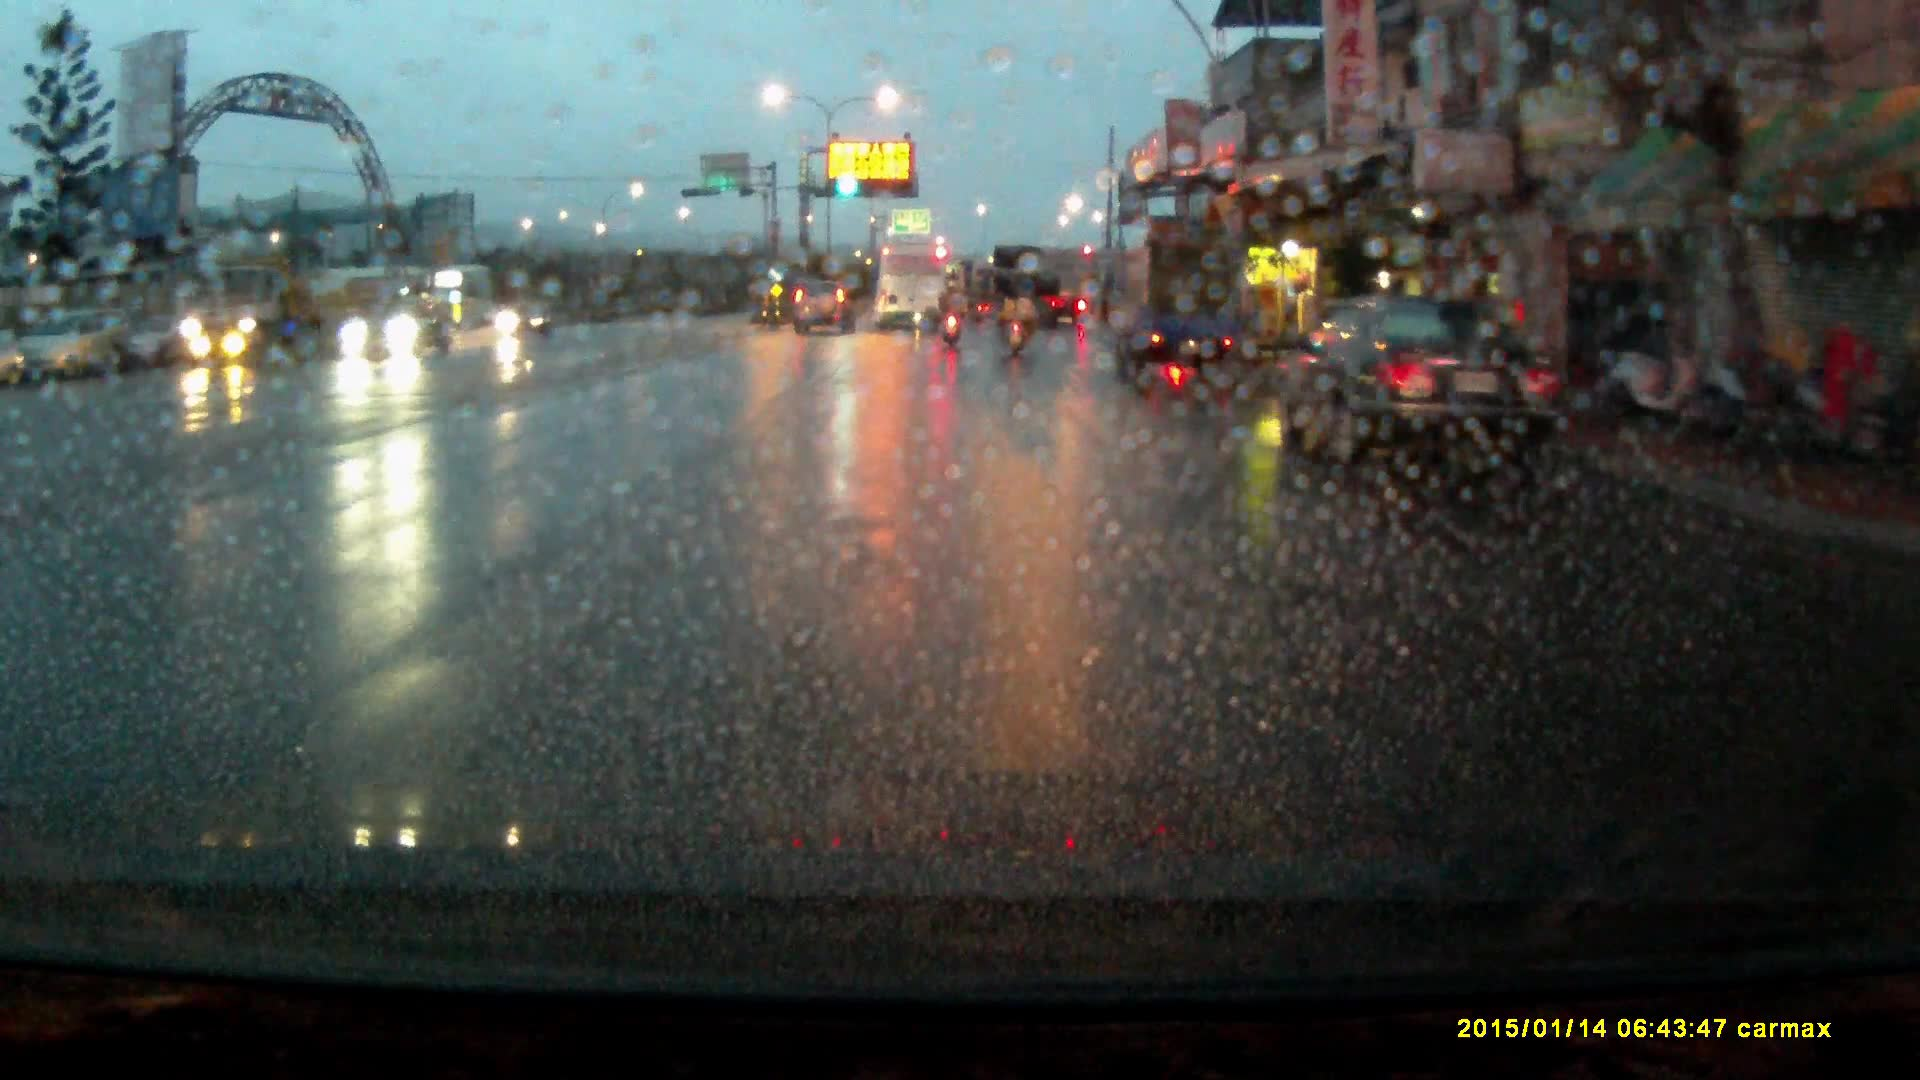rider: (997, 276, 1033, 359), (940, 283, 969, 353)
vehicle: (1290, 297, 1552, 495), (190, 254, 389, 367), (1113, 243, 1248, 376), (10, 310, 126, 389), (338, 303, 458, 363), (993, 247, 1063, 334), (877, 247, 946, 333), (793, 279, 857, 341), (493, 300, 561, 344)
